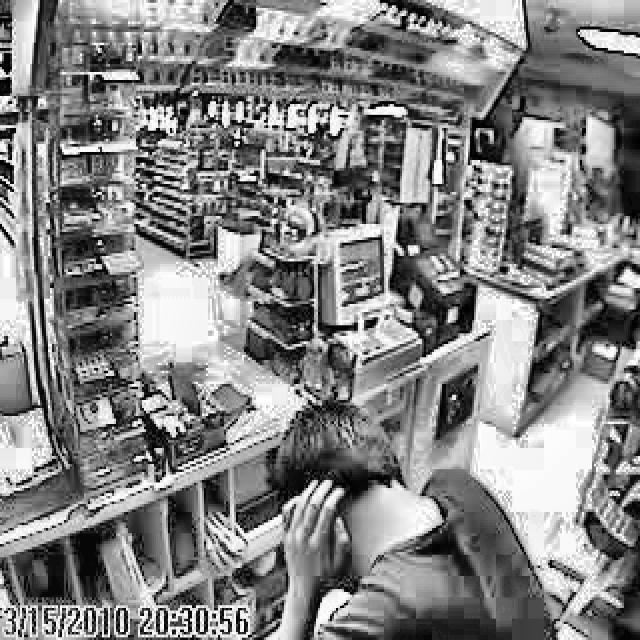robbery: (265, 396, 558, 640)
